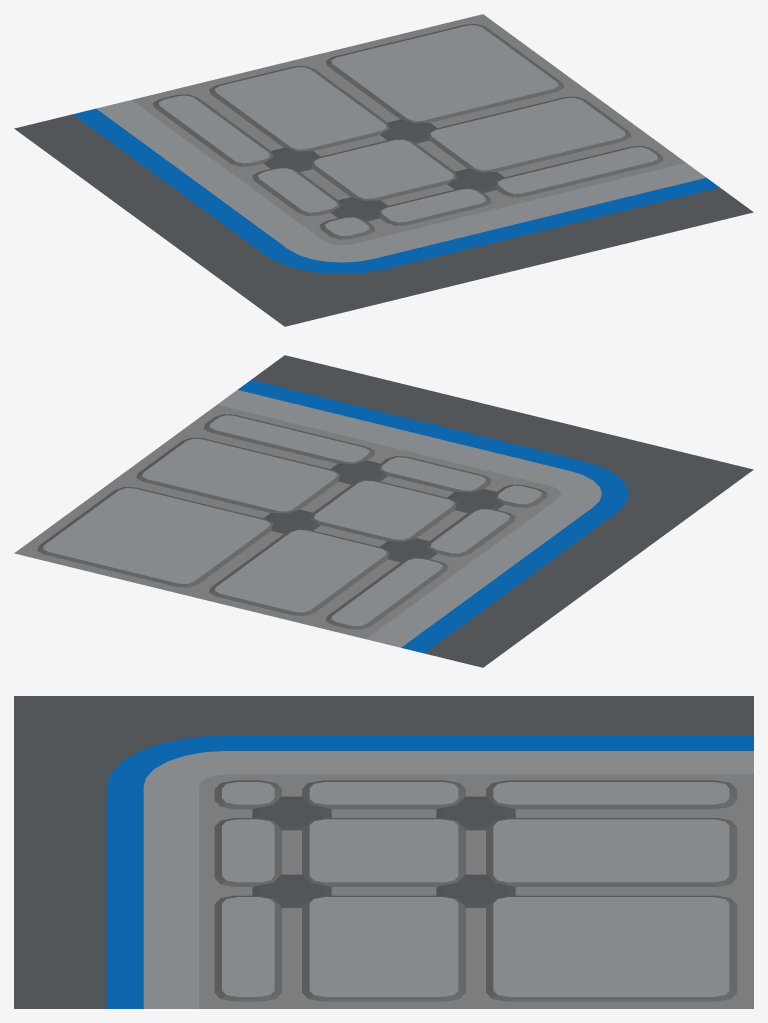
The model's file is Floor_type_B_017.fbx.
3 views of the same model, one above another, from view 1: azimuth 30°, elevation 25°; view 2: azimuth 150°, elevation 25°; view 3: azimuth 270°, elevation 25° (orthographic). The views are drawn at different scales.
Parts seen in each view (by area): view 1: Floor_type_B_017; view 2: Floor_type_B_017; view 3: Floor_type_B_017.
Boxes of the visible parts, x1,y1,x2,y2 form: Floor_type_B_017: [14, 14, 753, 326]; Floor_type_B_017: [14, 355, 753, 667]; Floor_type_B_017: [14, 696, 753, 1008].
Size of the model in its own units: 400 by 400 by 1.34.
